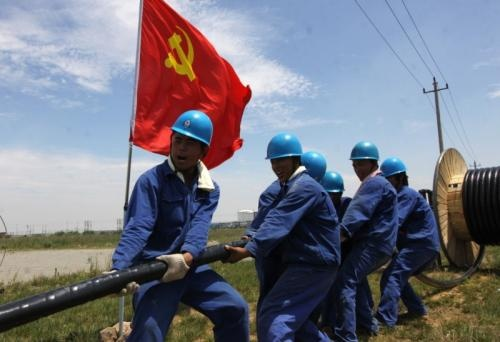blue: (166, 110, 214, 171), (264, 131, 302, 178), (348, 140, 381, 179), (380, 155, 410, 194), (318, 170, 344, 208)
